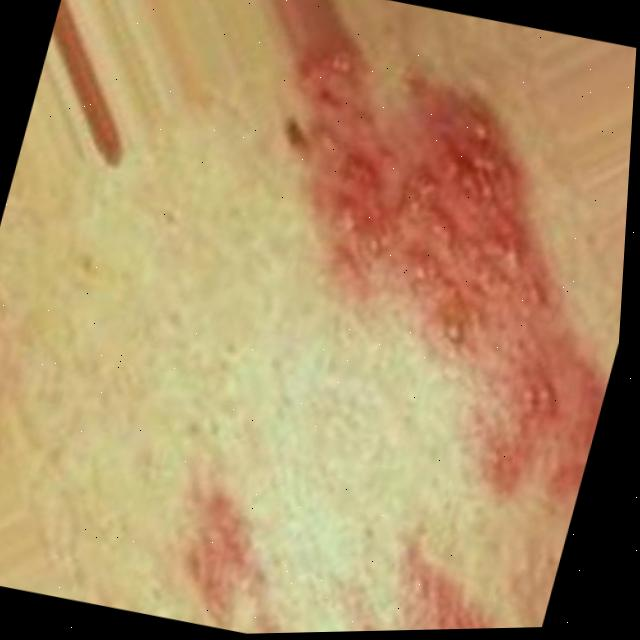Shingles: (211, 47, 636, 515), (157, 478, 515, 636)
